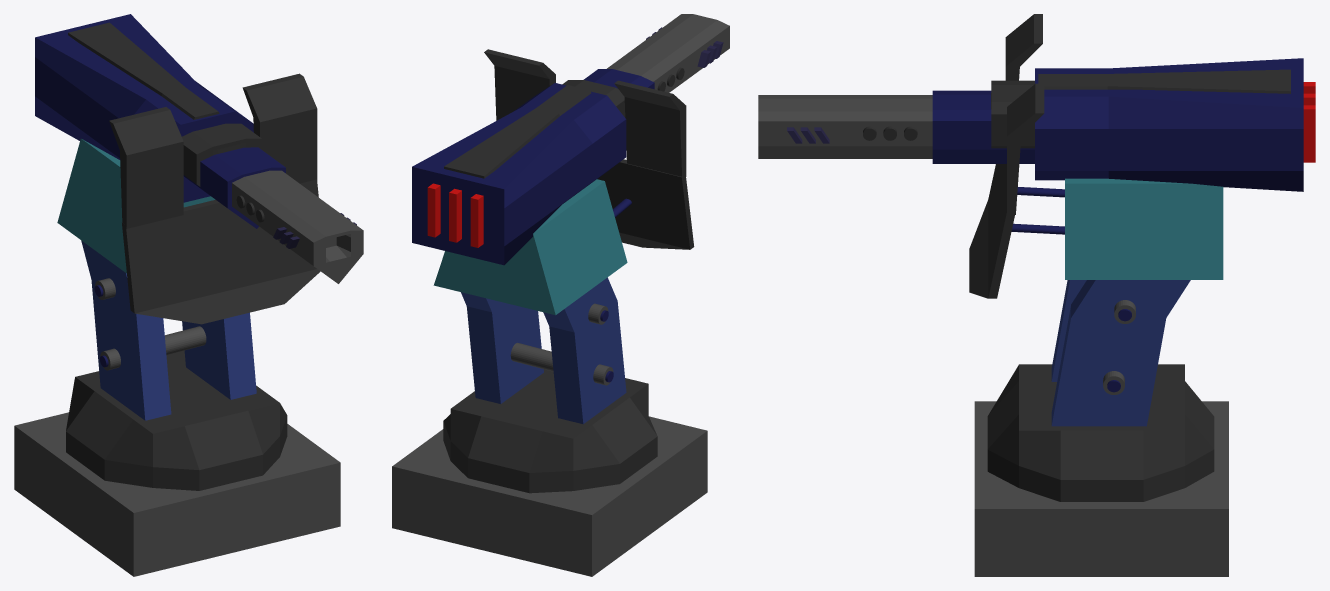
Rendered from Turm 22.fbx.
3 renders of one model, left to right at view 1: azimuth 30°, elevation 25°; view 2: azimuth 150°, elevation 25°; view 3: azimuth 270°, elevation 25°, orthographic. The views are drawn at different scales.
Parts seen in each view (by area): view 1: Cube.002, Cube.017; view 2: Cube.002, Cube.017; view 3: Cube.002, Cube.017.
Boxes of the visible parts, <box> form: Cube.002: <box>35,14,363,490</box>; Cube.017: <box>14,412,340,576</box>; Cube.002: <box>412,14,729,493</box>; Cube.017: <box>392,416,707,576</box>; Cube.002: <box>758,14,1315,501</box>; Cube.017: <box>974,401,1228,576</box>.
Size of the model in its own units: 186 by 371 by 408.
